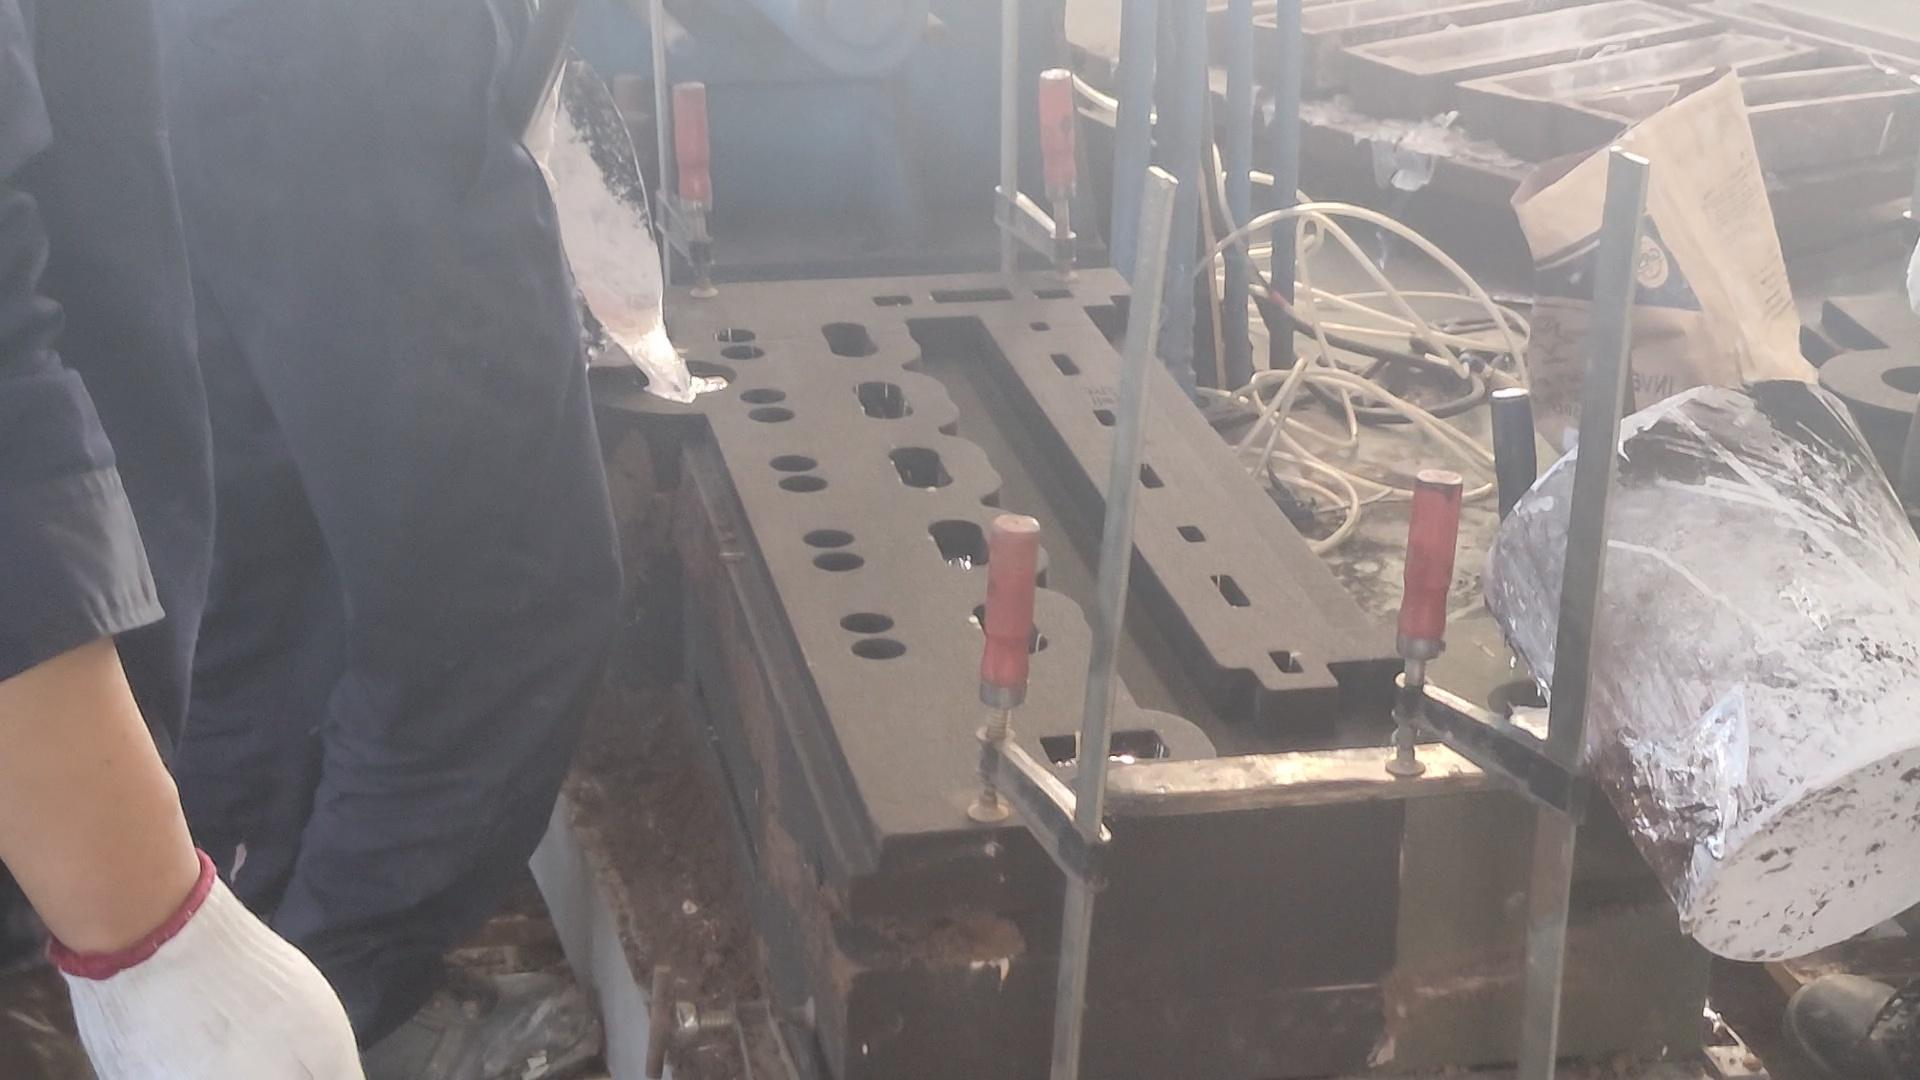pouring hole: (634, 359, 738, 396), (1487, 678, 1578, 717), (1880, 363, 1920, 400)
